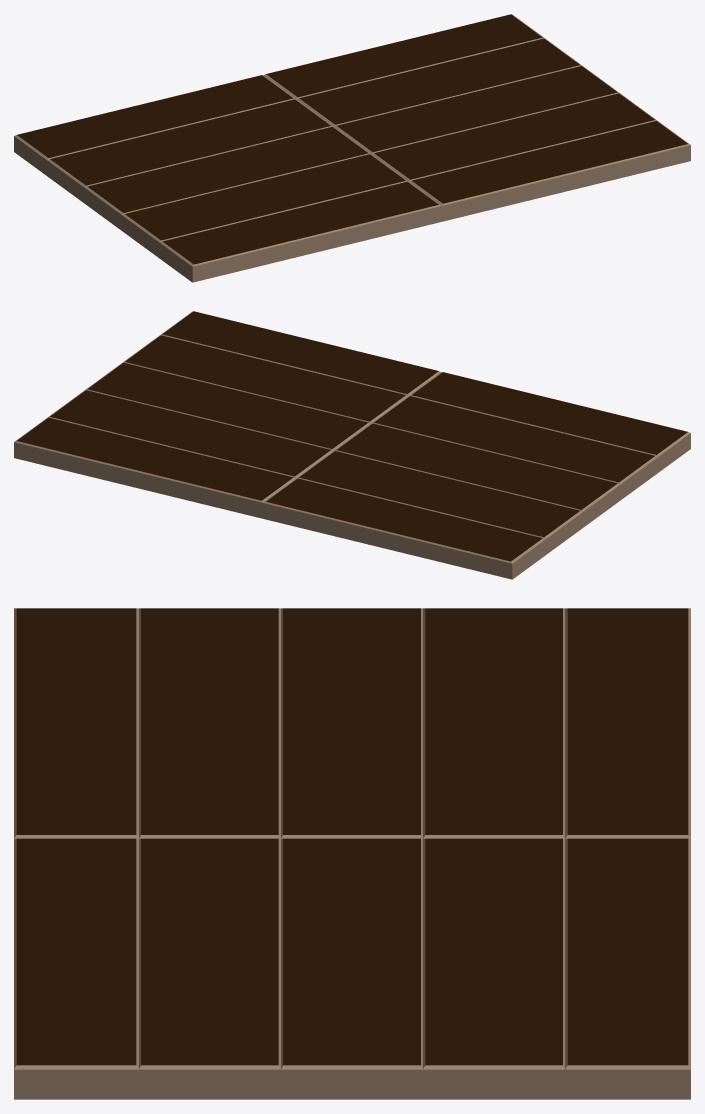
File: suelo7.fbx
3 views of the same model, one above another, from view 1: azimuth 30°, elevation 25°; view 2: azimuth 150°, elevation 25°; view 3: azimuth 270°, elevation 25° (orthographic). The views are drawn at different scales.
Visible parts, largest first — view 1: Cube.019; view 2: Cube.019; view 3: Cube.019.
Part boxes in pixels (x1,y1,x2,y2): Cube.019: [14, 14, 690, 282]; Cube.019: [14, 311, 690, 579]; Cube.019: [14, 608, 690, 1099].
Size of the model in its own units: 9788 by 321 by 6073.
